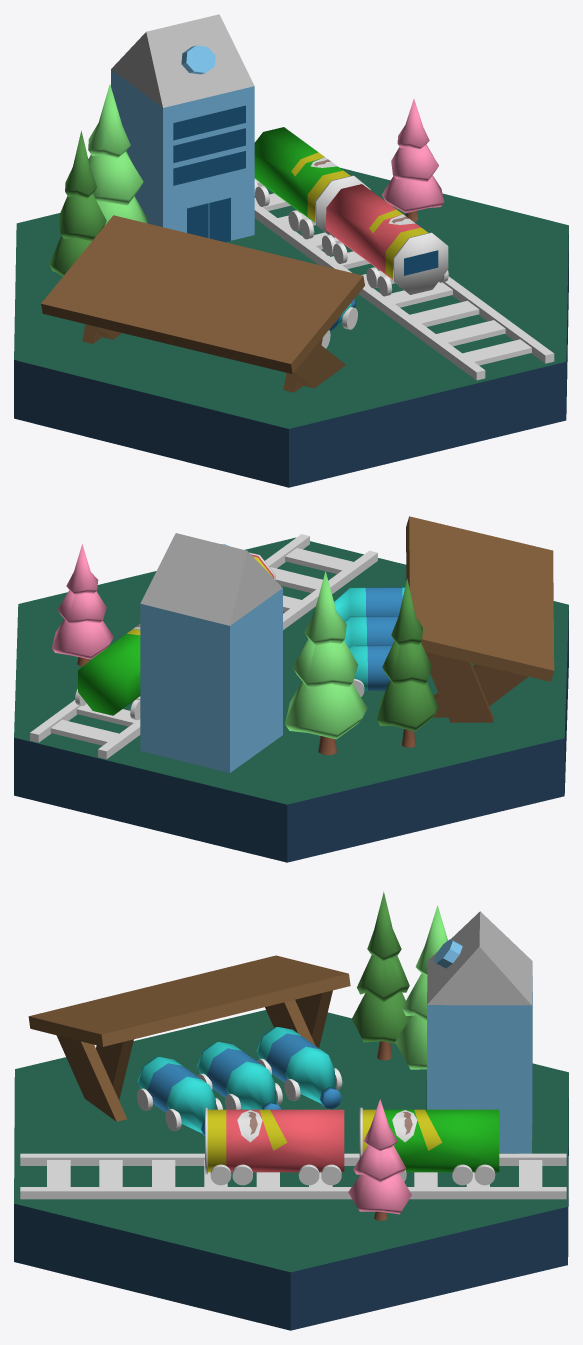
File: Macro - Transportation Hub lvl 2.fbx
3 renders of one model, top to bottom at view 1: azimuth 30°, elevation 25°; view 2: azimuth 150°, elevation 25°; view 3: azimuth 270°, elevation 25°, orthographic.
Parts seen in each view (by area): view 1: Cylinder.013, table.001, milkbox1.001, chips_001.002, chips_001.001, Tree_Spruce_tiny_01.008, Tree_Spruce_tiny_01.003, Tree_Spruce_tiny_01.007, Cube.137, Cube.136, Plane.001, Plane.003 (+8 smaller); view 2: Cylinder.013, milkbox1.001, table.001, Tree_Spruce_tiny_01.008, Tree_Spruce_tiny_01.007, Tree_Spruce_tiny_01.003, chips_001.001, Cube.137, coke3.003, coke3.004, coke3.005, Cube.136 (+4 smaller); view 3: Cylinder.013, milkbox1.001, table.001, chips_001.002, chips_001.001, Cube.136, Tree_Spruce_tiny_01.007, Tree_Spruce_tiny_01.003, coke3.005, coke3.004, coke3.003, Cube.137 (+5 smaller).
Boxes of the visible parts, box(x1,y1,x2,y2) form: Cylinder.013: box(14, 167, 568, 487); table.001: box(41, 215, 364, 392); milkbox1.001: box(111, 14, 254, 240); chips_001.002: box(326, 184, 448, 294); chips_001.001: box(254, 127, 370, 237); Tree_Spruce_tiny_01.008: box(88, 84, 147, 225); Tree_Spruce_tiny_01.003: box(382, 99, 444, 221); Tree_Spruce_tiny_01.007: box(49, 130, 106, 276); Cube.137: box(254, 201, 485, 380); Cube.136: box(443, 276, 554, 363); Plane.001: box(173, 151, 245, 185); Plane.003: box(173, 105, 245, 140); Cylinder.013: box(14, 537, 568, 862); milkbox1.001: box(140, 533, 282, 772); table.001: box(406, 516, 554, 722); Tree_Spruce_tiny_01.008: box(285, 571, 367, 755); Tree_Spruce_tiny_01.007: box(376, 578, 438, 747); Tree_Spruce_tiny_01.003: box(52, 544, 113, 666); chips_001.001: box(78, 624, 140, 715); Cube.137: box(98, 550, 377, 759); coke3.003: box(313, 587, 404, 621); coke3.004: box(344, 616, 398, 647); coke3.005: box(349, 645, 427, 690); Cube.136: box(30, 534, 309, 742); Cylinder.013: box(14, 1010, 568, 1330); milkbox1.001: box(427, 911, 532, 1153); table.001: box(28, 955, 350, 1121); chips_001.002: box(205, 1107, 344, 1174); chips_001.001: box(359, 1107, 499, 1172); Cube.136: box(20, 1187, 566, 1199); Tree_Spruce_tiny_01.007: box(352, 891, 411, 1060); Tree_Spruce_tiny_01.003: box(348, 1099, 411, 1220); coke3.005: box(256, 1027, 341, 1109); coke3.004: box(197, 1042, 280, 1109); coke3.003: box(137, 1057, 216, 1135); Cube.137: box(20, 1153, 566, 1165).
Size of the model in its own units: 197 by 89.35 by 172.
